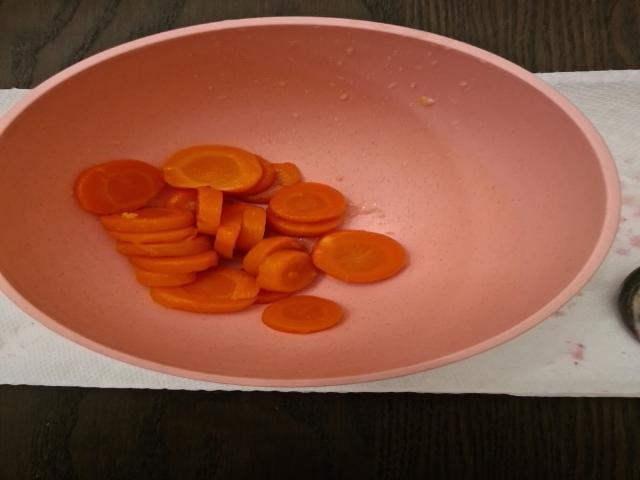kichen waste: (74, 147, 408, 334)
